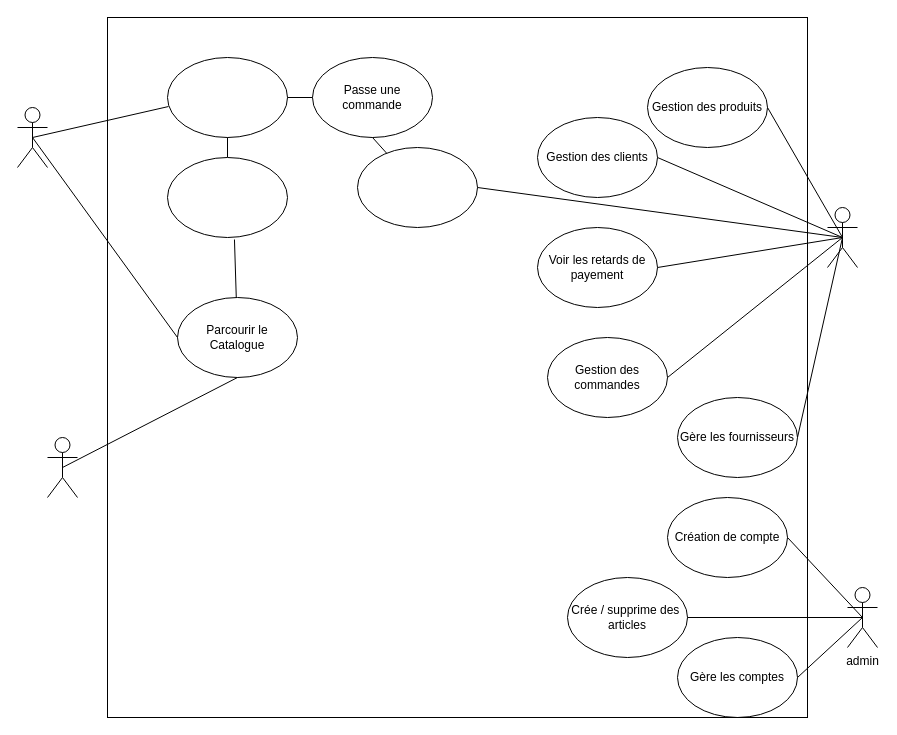
Some shapes in this 897 by 735 pixel diagram are drawn without their labels. Here are the shapes that lost their labels. From the top down, the centre of each, then its label:
(x=227, y=97): Se connecte
(x=32, y=137): Client
(x=227, y=197): S'inscrit
(x=417, y=187): Suivi de la commande
(x=842, y=237): Commerciaux
(x=62, y=467): Visiteur
